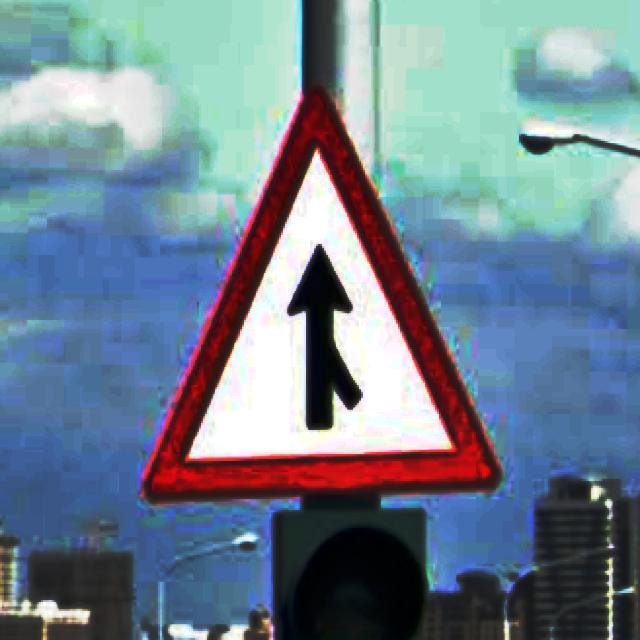rightmerge: (142, 85, 502, 499)
